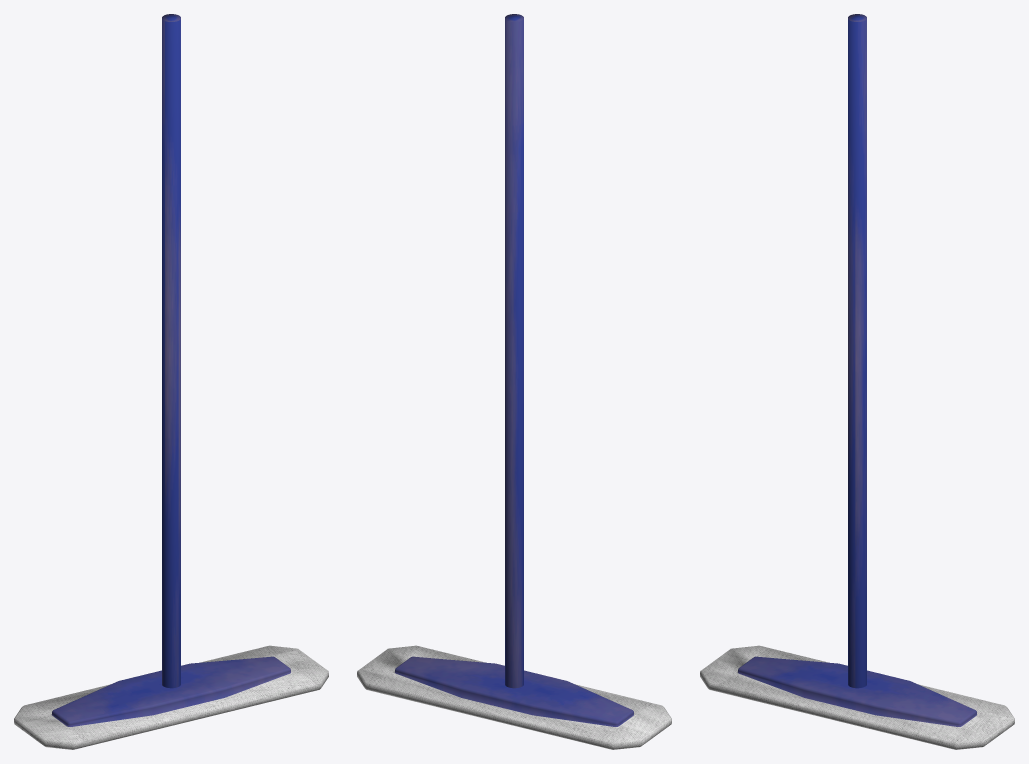
The model's file is mopNew.fbx.
3 renders of one model, left to right at view 1: azimuth 30°, elevation 25°; view 2: azimuth 150°, elevation 25°; view 3: azimuth 330°, elevation 25°, orthographic.
Visible parts, largest first — view 1: node_id4 (×2); view 2: node_id4 (×2); view 3: node_id4 (×2).
Part boxes in pixels (left/top/right/bottom): node_id4 (×2): left=14, top=14, right=328, bottom=749; node_id4 (×2): left=357, top=14, right=671, bottom=749; node_id4 (×2): left=700, top=14, right=1014, bottom=749.
Size of the model in its own units: 0.0577 by 0.1317 by 0.0181.
2 materials, 2 textured.
